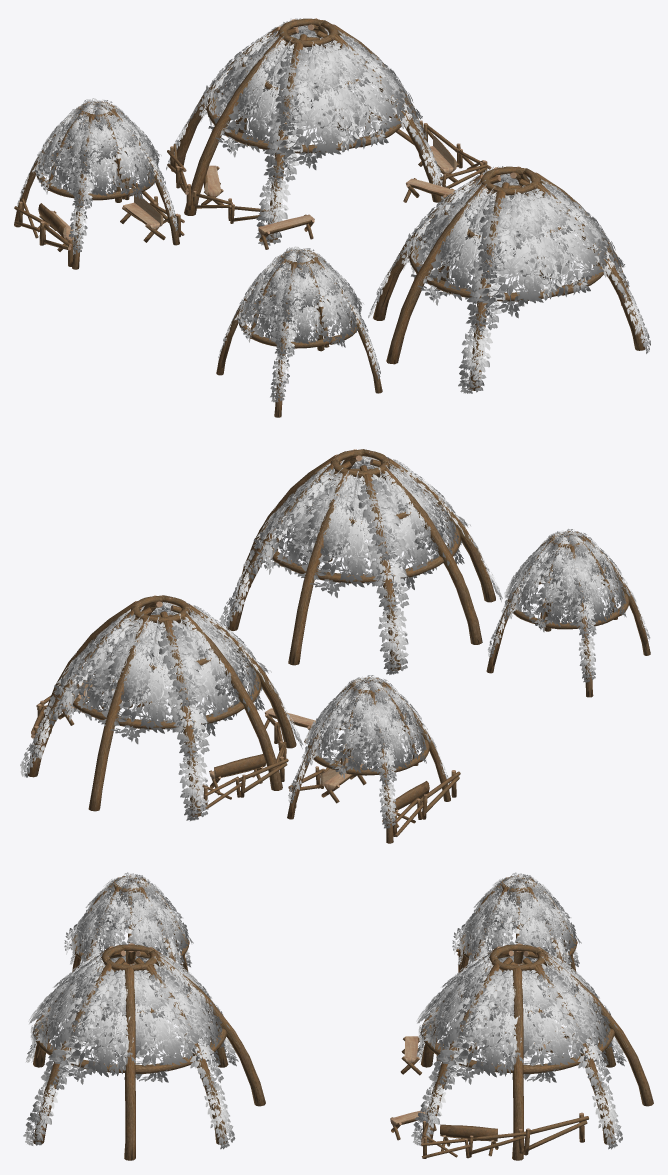
Rendered from Fae_Awnings_A1.fbx.
3 renders of one model, top to bottom at view 1: azimuth 30°, elevation 25°; view 2: azimuth 150°, elevation 25°; view 3: azimuth 270°, elevation 25°, orthographic. The views are drawn at different scales.
Visible parts, largest first — view 1: Fae_Awning_A1_Leaves1, Fae_Awning_B1_Leaves1, Fae_Awning_A1_Leaves1.001, Fae_Awning_B1_Leaves1.001, Fae_Awning_A1_Leaves1.002, Fae_Awning_B1_Leaves1.002, Fae_Awning_A1.003, Fae_Awning_A2_Leaves1, Fae_Awning_A1.001, Fae_Awning_B2_Leaves1, Fae_Awning_B2_Leaves1.001, Fae_Awning_A2_Leaves1.001 (+14 smaller); view 2: Fae_Awning_B1_Leaves1, Fae_Awning_A1_Leaves1, Fae_Awning_B1_Leaves1.001, Fae_Awning_A1_Leaves1.001, Fae_Awning_B1_Leaves1.002, Fae_Awning_A1_Leaves1.002, Fae_Awning_A1.001, Fae_Awning_A1.003, Fae_Awning_B2_Leaves1, Fae_Awning_A2_Leaves1, Fae_Awning_A1, Fae_Awning_A2_Leaves1.001 (+14 smaller); view 3: Fae_Awning_B1_Leaves1, Fae_Awning_A1_Leaves1, Fae_Awning_B1_Leaves1.001, Fae_Awning_A1_Leaves1.001, Fae_Awning_B1_Leaves1.002, Fae_Awning_A1_Leaves1.002, Fae_Awning_A1.001, Fae_Awning_A1.003, Fae_Awning_A1, Fae_Awning_B2_Leaves1, Fae_Awning_A2_Leaves1, Fae_Awning_B2_Leaves1.001 (+13 smaller).
Boxes of the visible parts, x1,y1,x2,y2 form: Fae_Awning_A1_Leaves1: (368, 166, 650, 393); Fae_Awning_B1_Leaves1: (166, 18, 445, 245); Fae_Awning_A1_Leaves1.001: (368, 166, 650, 393); Fae_Awning_B1_Leaves1.001: (166, 18, 445, 245); Fae_Awning_A1_Leaves1.002: (369, 166, 650, 393); Fae_Awning_B1_Leaves1.002: (166, 18, 446, 245); Fae_Awning_A1.003: (169, 18, 486, 248); Fae_Awning_A2_Leaves1: (218, 258, 380, 402); Fae_Awning_A1.001: (167, 18, 491, 249); Fae_Awning_B2_Leaves1: (17, 107, 178, 253); Fae_Awning_B2_Leaves1.001: (16, 106, 177, 254); Fae_Awning_A2_Leaves1.001: (218, 256, 380, 401); Fae_Awning_B1_Leaves1: (20, 598, 303, 820); Fae_Awning_A1_Leaves1: (219, 457, 502, 674); Fae_Awning_B1_Leaves1.001: (20, 602, 302, 820); Fae_Awning_A1_Leaves1.001: (220, 452, 502, 674); Fae_Awning_B1_Leaves1.002: (21, 597, 302, 820); Fae_Awning_A1_Leaves1.002: (221, 456, 501, 674); Fae_Awning_A1.001: (29, 595, 317, 816); Fae_Awning_A1.003: (27, 595, 308, 816); Fae_Awning_B2_Leaves1: (288, 683, 448, 828); Fae_Awning_A2_Leaves1: (488, 537, 649, 682); Fae_Awning_A1: (226, 449, 495, 670); Fae_Awning_A2_Leaves1.001: (487, 538, 649, 682); Fae_Awning_B1_Leaves1: (411, 943, 626, 1149); Fae_Awning_A1_Leaves1: (23, 944, 238, 1149); Fae_Awning_B1_Leaves1.001: (413, 943, 626, 1148); Fae_Awning_A1_Leaves1.001: (25, 943, 238, 1148); Fae_Awning_B1_Leaves1.002: (413, 943, 623, 1148); Fae_Awning_A1_Leaves1.002: (25, 943, 235, 1148); Fae_Awning_A1.001: (390, 943, 653, 1160); Fae_Awning_A1.003: (392, 943, 648, 1160); Fae_Awning_A1: (33, 943, 265, 1160); Fae_Awning_B2_Leaves1: (454, 882, 579, 1011); Fae_Awning_A2_Leaves1: (66, 875, 191, 1012); Fae_Awning_B2_Leaves1.001: (454, 881, 579, 965).
Size of the model in its own units: 2313 by 908 by 3300.
